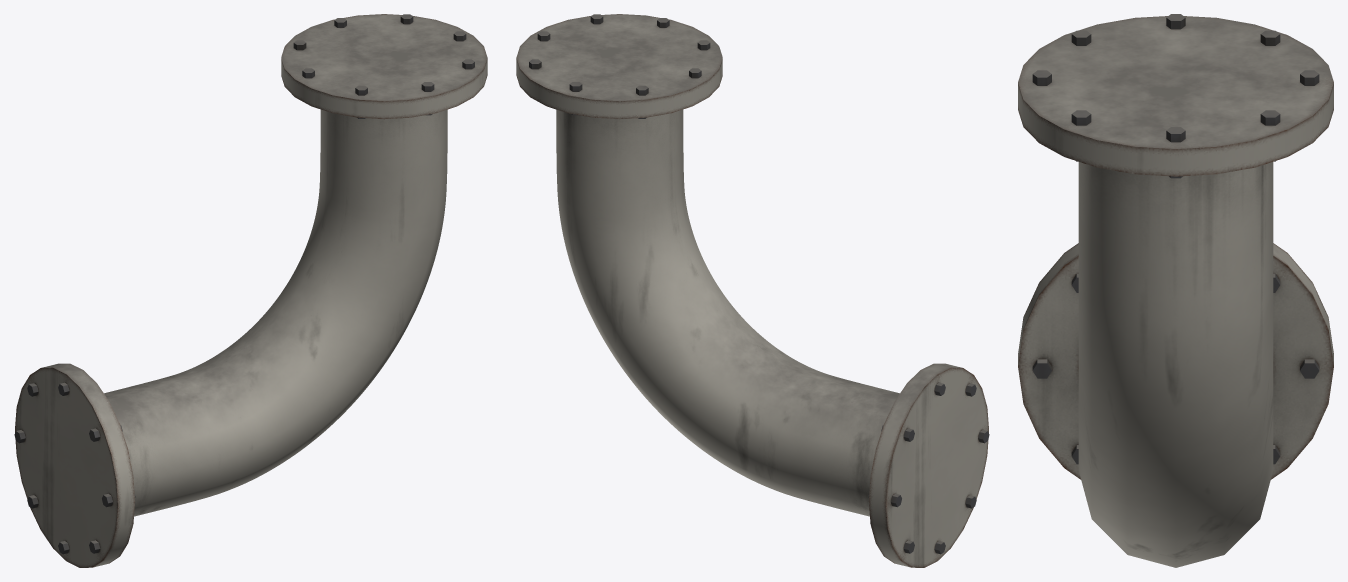
Rendered from SM_Pipe_Elbow90.fbx.
The picture shows the model from 3 angles, left to right: view 1: azimuth 30°, elevation 25°; view 2: azimuth 150°, elevation 25°; view 3: azimuth 270°, elevation 25°; orthographic projection. The views are drawn at different scales.
Visible parts, largest first — view 1: SM_Pipe_Elbow90; view 2: SM_Pipe_Elbow90; view 3: SM_Pipe_Elbow90.
Boxes of the visible parts, x1,y1,x2,y2 form: SM_Pipe_Elbow90: [14, 14, 487, 567]; SM_Pipe_Elbow90: [516, 14, 989, 567]; SM_Pipe_Elbow90: [1018, 14, 1333, 567].
Size of the model in its own units: 0.6 by 0.6 by 0.26.
1 material, 1 textured.
